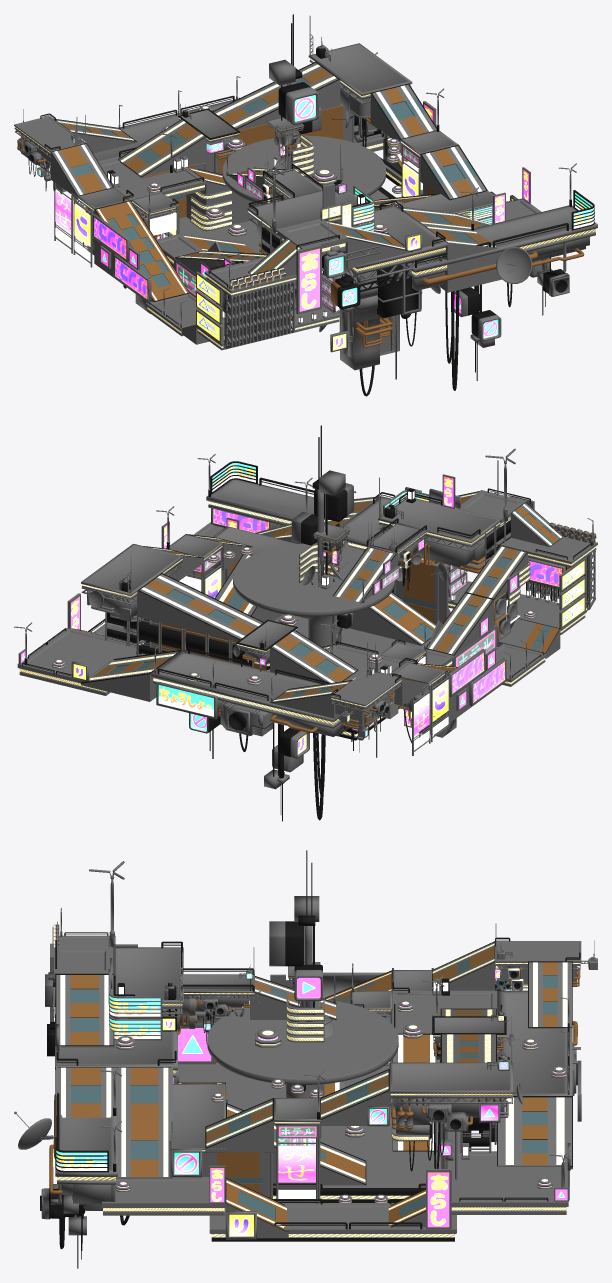
File: level_whitebox.glb
The picture shows the model from 3 angles, top to bottom: view 1: azimuth 30°, elevation 25°; view 2: azimuth 150°, elevation 25°; view 3: azimuth 270°, elevation 25°; orthographic projection. The views are drawn at different scales.
Parts seen in each view (by area): view 1: Platform_4x1.011, Platform_2x2.012, col_.023, Platform_4x2.011, 立方体.045, 立方体.035, 立方体.027, 立方体.030, Platform_4x2.015, 立方体.026, TV_3.003, 立方体.025 (+35 smaller); view 2: Platform_4x1.010, col_.023, Platform_4x2.015, 立方体.027, Platform_4x2.011, Platform_2x2_Empty.011, Platform_4x2.013, Platform_4x1.011, TV_3.003, 立方体.030, 立方体.044, 立方体.028 (+42 smaller); view 3: col_.023, 立方体.045, Platform_4x2.011, Platform_4x4_Empty.003, Platform_4x1.011, Platform_2x2_Empty.011, Platform_4x1_Empty.009, Platform_4x1.010, 立方体.028, Platform_4x2.015, 立方体.032, TV_3.003 (+37 smaller).
Boxes of the visible parts, x1=… form: Platform_4x1.011: x1=407, y1=205, x2=597, y2=390; Platform_2x2.012: x1=319, y1=200, x2=447, y2=396; col_.023: x1=222, y1=135, x2=385, y2=204; Platform_4x2.011: x1=308, y1=16, x2=412, y2=155; 立方体.045: x1=398, y1=206, x2=502, y2=292; 立方体.035: x1=94, y1=200, x2=189, y2=301; 立方体.027: x1=213, y1=61, x2=340, y2=130; 立方体.030: x1=118, y1=119, x2=206, y2=177; Platform_4x2.015: x1=247, y1=144, x2=370, y2=254; 立方体.026: x1=370, y1=83, x2=436, y2=144; TV_3.003: x1=269, y1=14, x2=321, y2=161; 立方体.025: x1=420, y1=144, x2=487, y2=200; Platform_4x1.010: x1=151, y1=650, x2=348, y2=821; col_.023: x1=233, y1=543, x2=395, y2=616; Platform_4x2.015: x1=378, y1=477, x2=501, y2=584; 立方体.027: x1=137, y1=573, x2=263, y2=641; Platform_4x2.011: x1=81, y1=544, x2=183, y2=635; Platform_2x2_Empty.011: x1=17, y1=628, x2=145, y2=695; Platform_4x2.013: x1=330, y1=642, x2=402, y2=757; Platform_4x1.011: x1=206, y1=479, x2=356, y2=528; TV_3.003: x1=291, y1=425, x2=353, y2=582; 立方体.030: x1=270, y1=629, x2=358, y2=684; 立方体.044: x1=349, y1=592, x2=435, y2=645; 立方体.028: x1=81, y1=649, x2=181, y2=701; col_.023: x1=207, y1=1000, x2=398, y2=1084; 立方体.045: x1=56, y1=1066, x2=172, y2=1178; Platform_4x2.011: x1=389, y1=1016, x2=536, y2=1171; Platform_4x4_Empty.003: x1=178, y1=1062, x2=471, y2=1202; Platform_4x1.011: x1=14, y1=1070, x2=119, y2=1268; Platform_2x2_Empty.011: x1=450, y1=1151, x2=568, y2=1214; Platform_4x1_Empty.009: x1=209, y1=1203, x2=456, y2=1241; Platform_4x1.010: x1=479, y1=990, x2=580, y2=1141; 立方体.028: x1=497, y1=1096, x2=572, y2=1169; Platform_4x2.015: x1=113, y1=941, x2=196, y2=1034; 立方体.032: x1=55, y1=974, x2=114, y2=1047; TV_3.003: x1=269, y1=850, x2=322, y2=1028.
Bounding box in the file's own units: 79.04 × 65.1 × 91.27.
